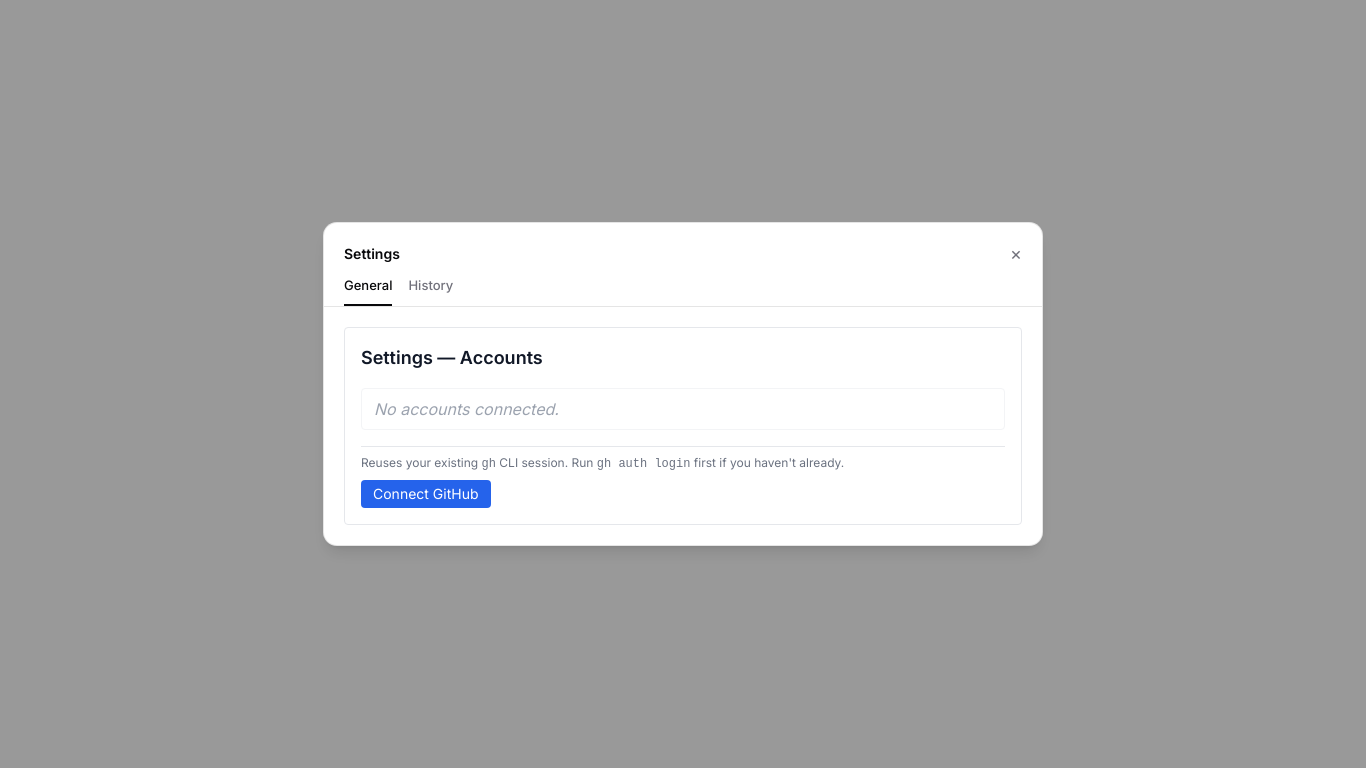
Test: SettingsModal › tab bodies › switches to history tab on click
Step 1. Click the tab with test id "settings-tab-history" → [431, 291], box left=408, top=276, right=453, bottom=306
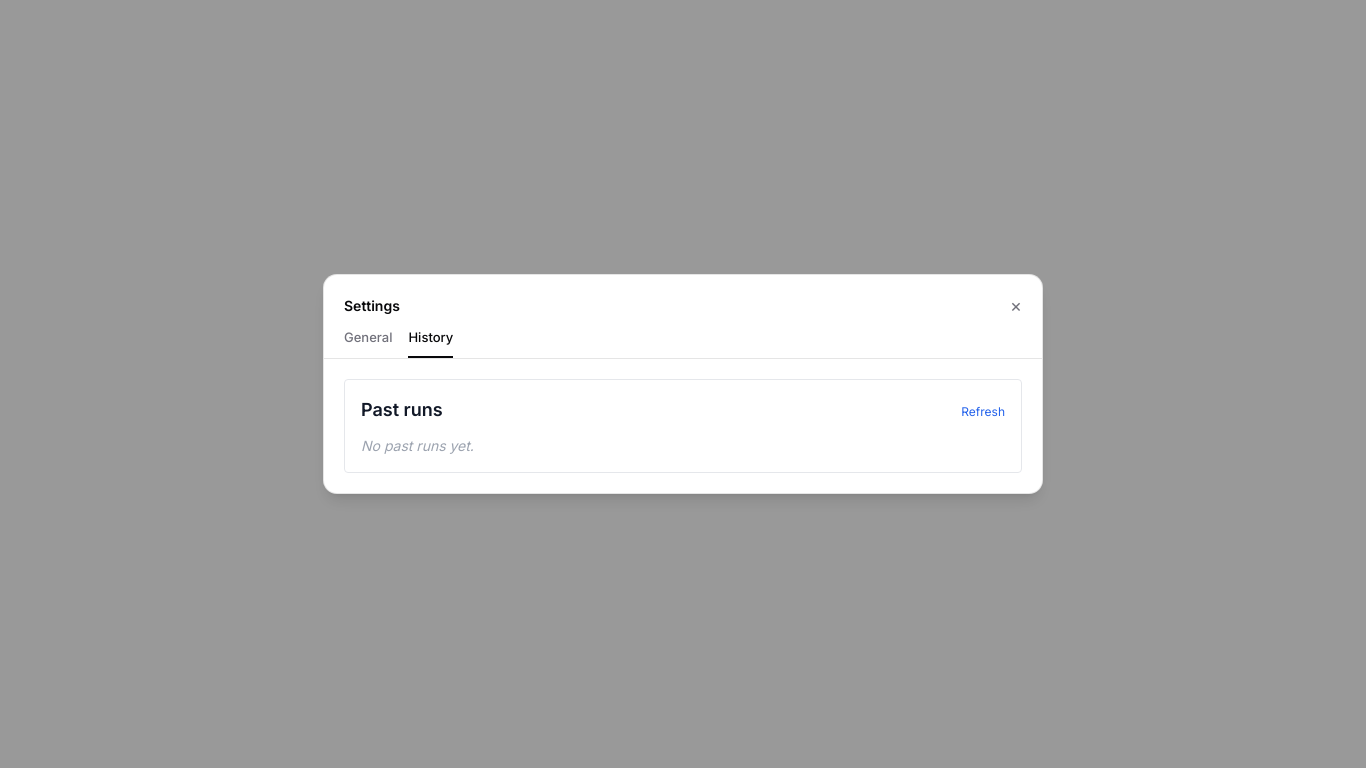
Result: the element with test id "past-runs-pane" is shown at left=344, top=379, right=1022, bottom=473
Result: the element with test id "settings-pane" is gone
